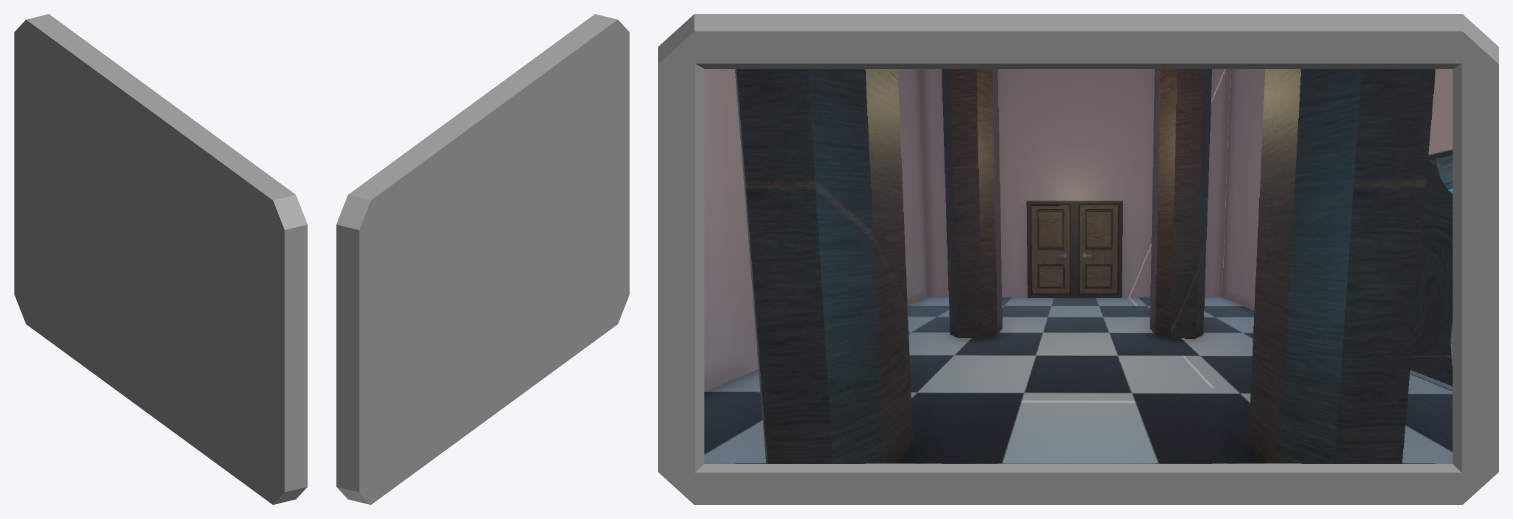
The model's file is Tablet.fbx.
3 views of the same model, side by side, from view 1: azimuth 30°, elevation 25°; view 2: azimuth 150°, elevation 25°; view 3: azimuth 270°, elevation 25° (orthographic). The views are drawn at different scales.
Visible parts, largest first — view 1: pCube10; view 2: pCube10; view 3: pCube10.
Boxes of the visible parts, x1,y1,x2,y2 form: pCube10: [14, 14, 307, 504]; pCube10: [336, 14, 629, 504]; pCube10: [658, 14, 1498, 504].
Bounding box in the file's own units: 0.2216 × 2.81 × 4.52.
Materials: 2 (1 with a texture image).
